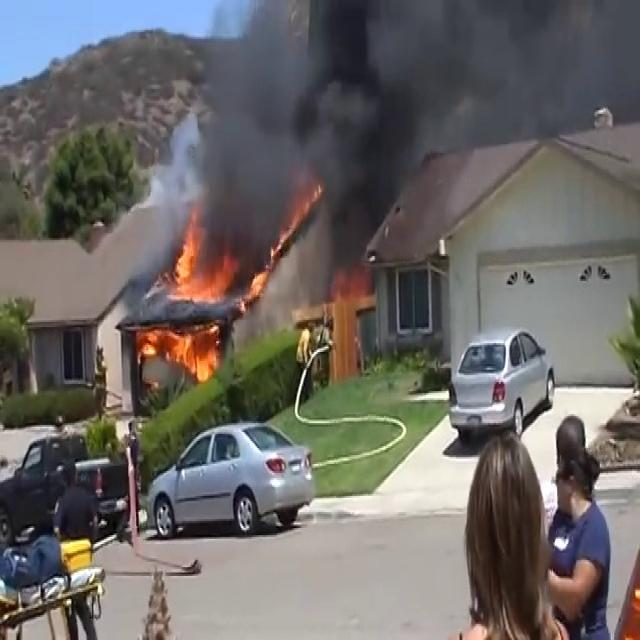Fire: (168, 237, 235, 307), (148, 325, 224, 380), (238, 254, 266, 314)
Smoke: (146, 1, 507, 264)
